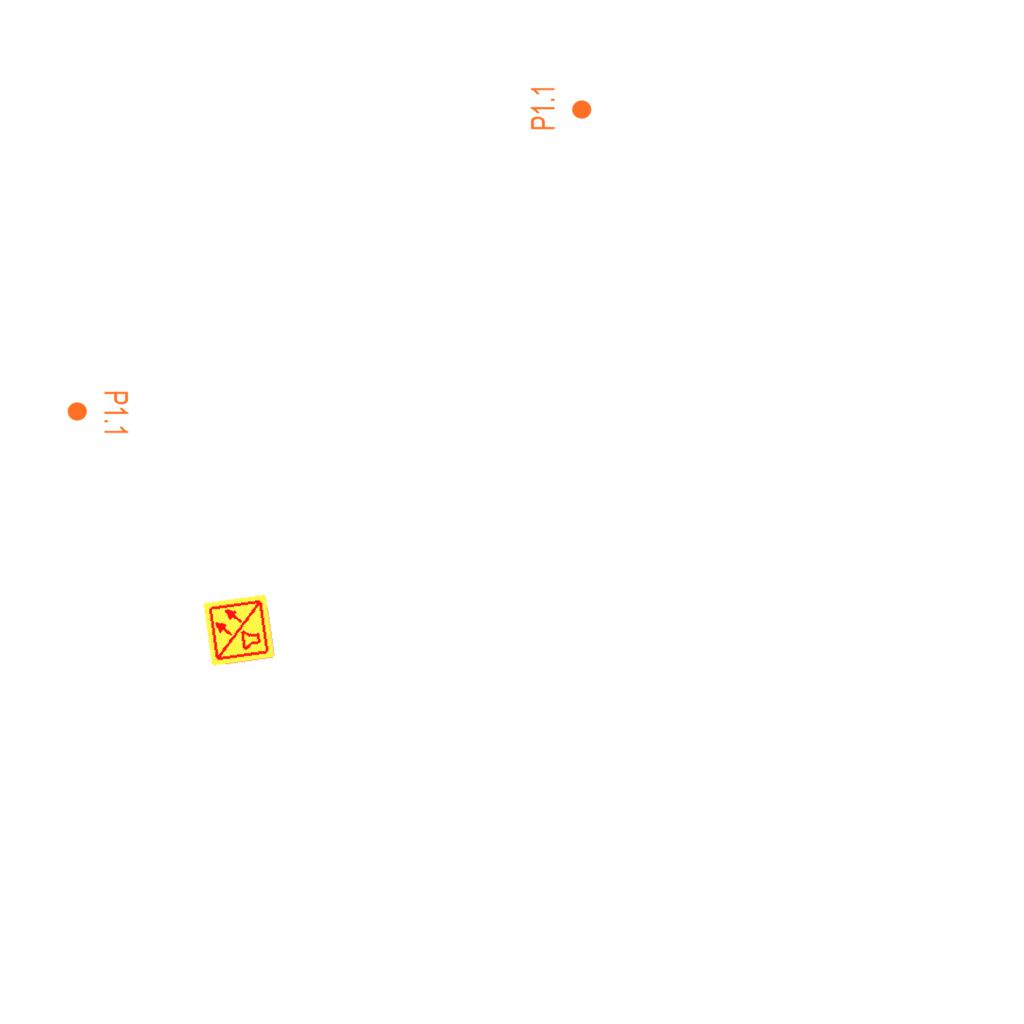Downlight_LED_Einbauleuchten_Flur: (66, 390, 130, 436), (529, 85, 593, 131)
OKW_Multisensormelder_(Kombination_optischer_Rauch-Kahlenmonoxid_Waerme-Melder): (201, 592, 277, 668)
